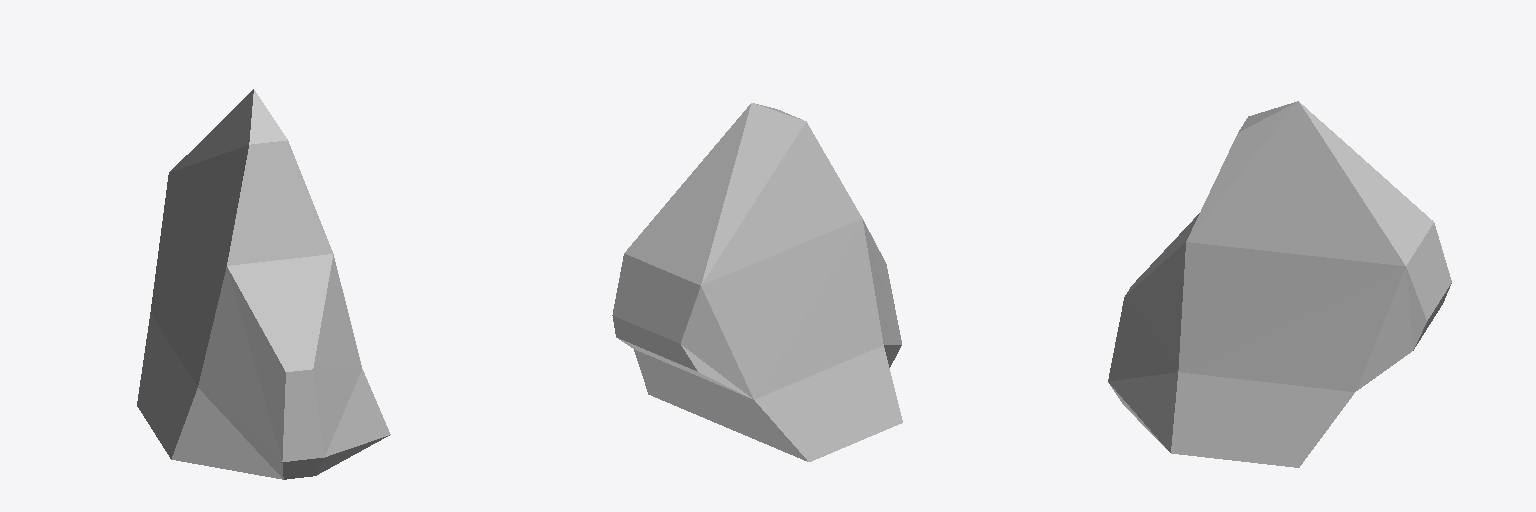
File: mLv1Rock09.obj
The picture shows the model from 3 angles: view 1: azimuth 30°, elevation 25°; view 2: azimuth 150°, elevation 25°; view 3: azimuth 270°, elevation 25°; orthographic projection.
Parts seen in each view (by area): view 1: mStoneBolder12; view 2: mStoneBolder12; view 3: mStoneBolder12.
Part boxes in pixels (x1,y1,x2,y2): mStoneBolder12: (137,89,390,479); mStoneBolder12: (612,103,902,461); mStoneBolder12: (1108,101,1451,467).
Bounding box in the file's own units: 5.15 × 7.09 × 6.98.